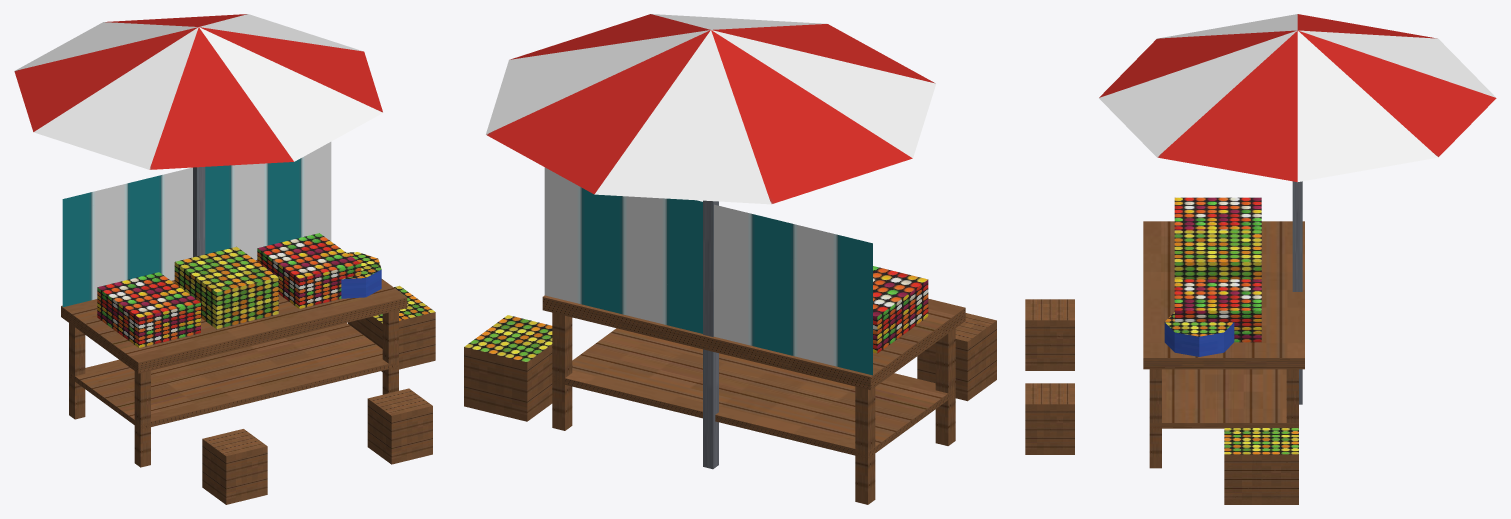
The model's file is stall-teal.glb.
3 views of the same model, side by side, from view 1: azimuth 30°, elevation 25°; view 2: azimuth 150°, elevation 25°; view 3: azimuth 270°, elevation 25° (orthographic). The views are drawn at different scales.
Visible parts, largest first — view 1: stall-teal; view 2: stall-teal; view 3: stall-teal.
Part boxes in pixels (x1,y1,x2,y2): stall-teal: (14,14,435,504); stall-teal: (464,14,996,504); stall-teal: (1025,14,1496,504).
Size of the model in its own units: 3.55 by 3.3 by 3.79.
Materials: 1 (1 with a texture image).
